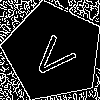V: (28, 27, 84, 83)
